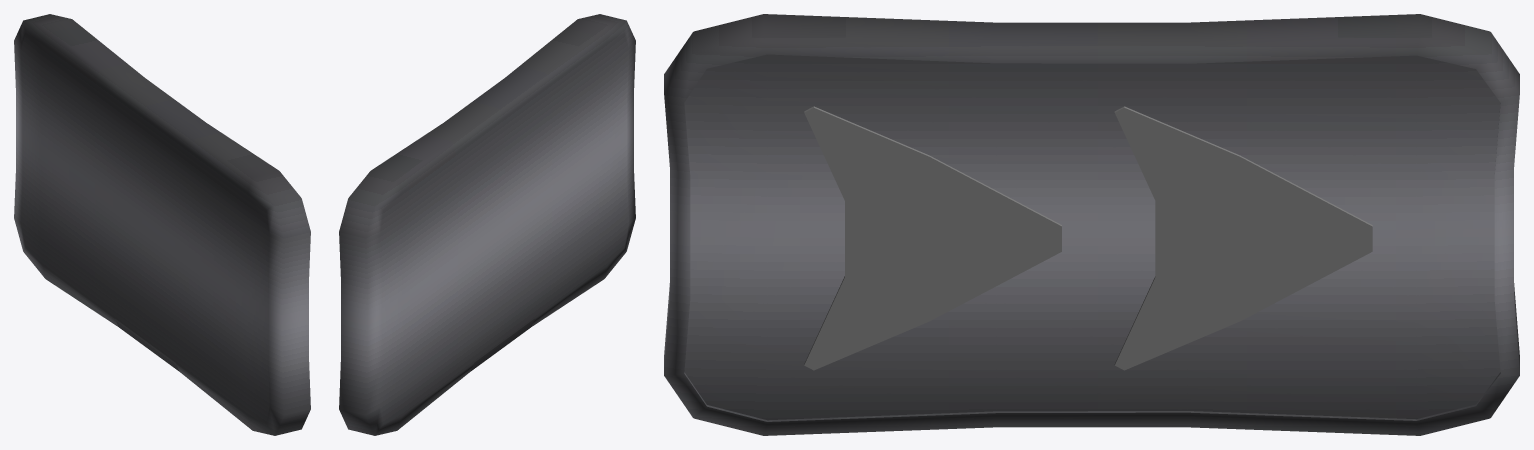
File: Running_Wall_Wider.obj
The picture shows the model from 3 angles, left to right: view 1: azimuth 30°, elevation 25°; view 2: azimuth 150°, elevation 25°; view 3: azimuth 270°, elevation 25°; orthographic projection. The views are drawn at different scales.
Visible parts, largest first — view 1: Running_Wall_Wider:Running_Wall; view 2: Running_Wall_Wider:Running_Wall; view 3: Running_Wall_Wider:Running_Wall, Running_Wall_Wider:Arrow1, Running_Wall_Wider:Arrow.
Boxes of the visible parts, box(x1,y1,x2,y2) form: Running_Wall_Wider:Running_Wall: box(14, 14, 310, 435); Running_Wall_Wider:Running_Wall: box(339, 14, 635, 435); Running_Wall_Wider:Running_Wall: box(664, 14, 1519, 435); Running_Wall_Wider:Arrow1: box(1114, 106, 1372, 370); Running_Wall_Wider:Arrow: box(804, 106, 1061, 370).
Bounding box in the file's own units: 21.24 × 138 × 268.
2 materials, 1 textured.
